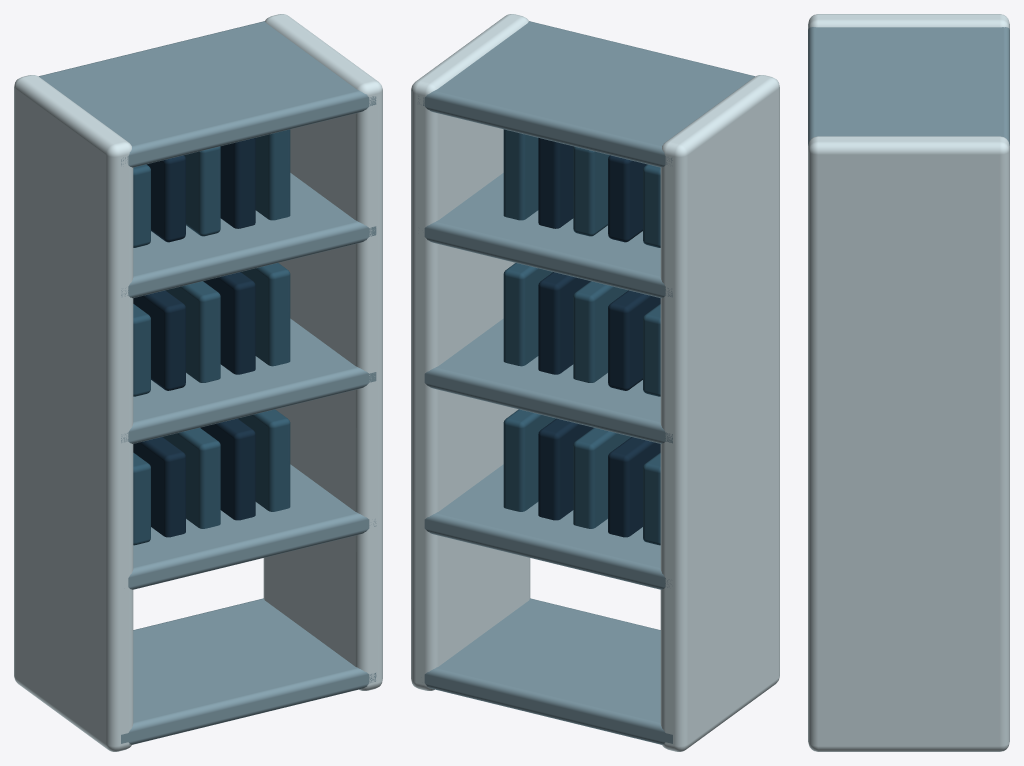
File: bookcaseopen.glb
The picture shows the model from 3 angles, left to right: view 1: azimuth 30°, elevation 25°; view 2: azimuth 150°, elevation 25°; view 3: azimuth 270°, elevation 25°; orthographic projection.
Visible parts, largest first — view 1: atelier-cyber-bookcaseopen; view 2: atelier-cyber-bookcaseopen; view 3: atelier-cyber-bookcaseopen.
Boxes of the visible parts, x1,y1,x2,y2 form: atelier-cyber-bookcaseopen: [14, 14, 382, 751]; atelier-cyber-bookcaseopen: [411, 14, 779, 751]; atelier-cyber-bookcaseopen: [808, 14, 1009, 751].
Size of the model in its own units: 0.475 by 1 by 0.3.
